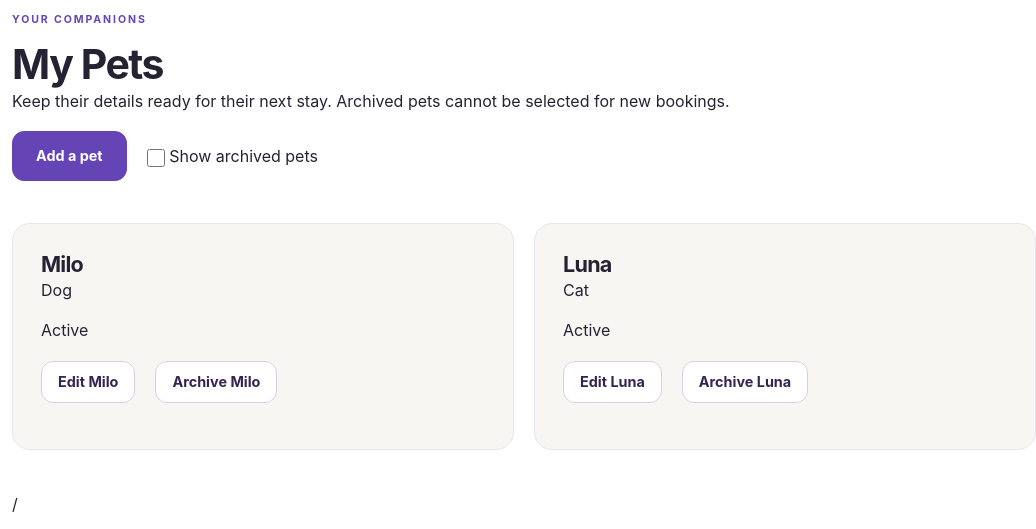
Test: renders active pets and refetches archived filtering
The width and height of the screenshot is (1036, 529).
Check: the heading "Milo" is shown, box [41, 251, 83, 277]
Click the checkbox labelled "Show archived pets" at (156, 158), box [147, 148, 165, 166]
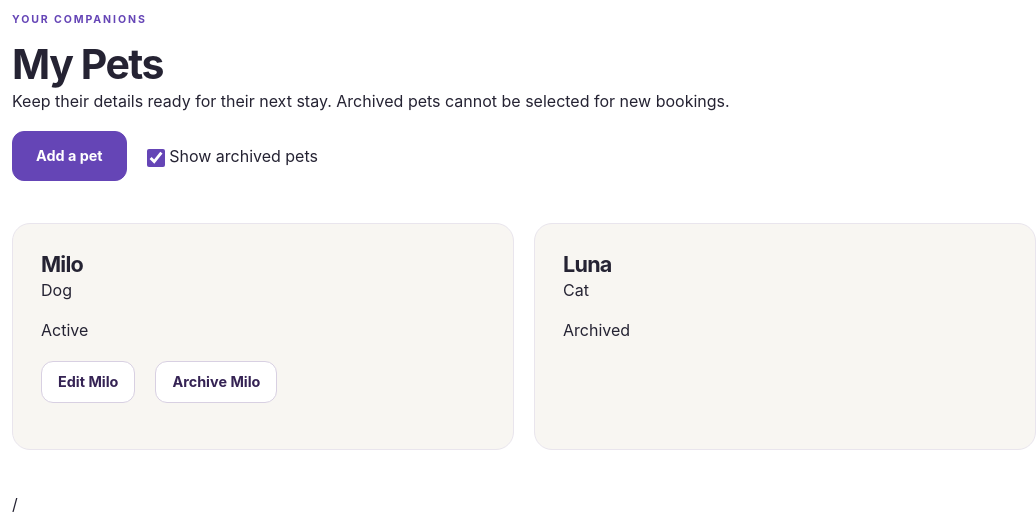
Check: the text "Archived" is shown, box [563, 320, 630, 340]
Check: the button "Edit Luna" is gone
